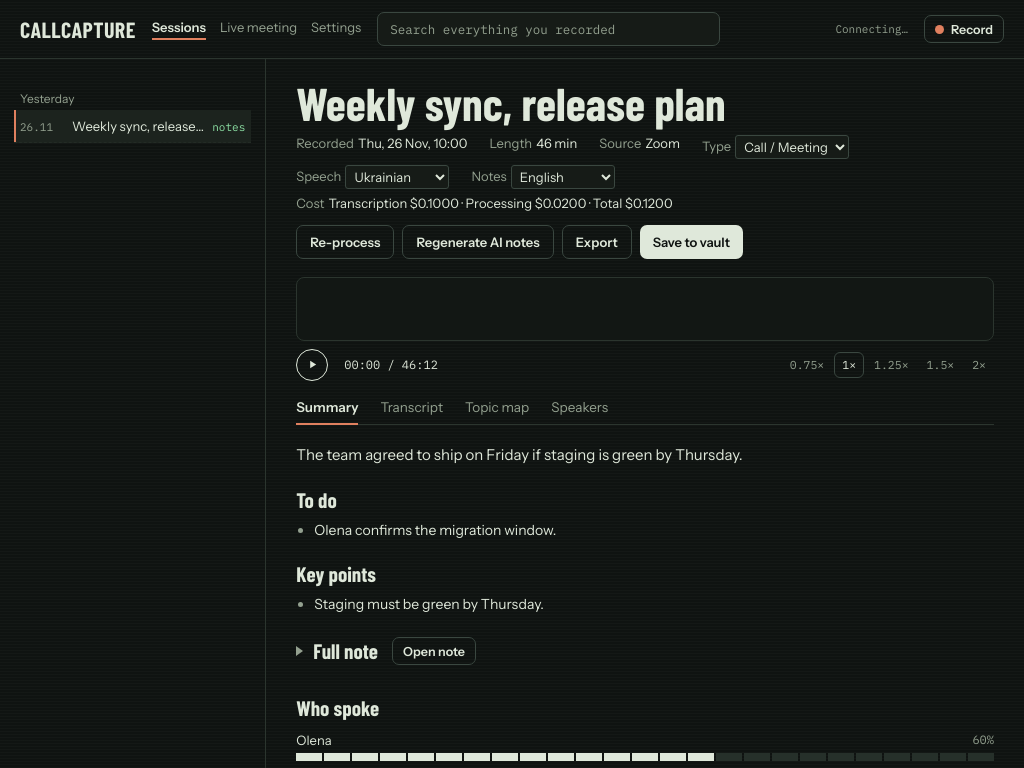
Scenario: SessionDetail: edit, open the note, progress › says so when the note file can't be opened
The width and height of the screenshot is (1024, 768).
What coordinates should you click on to do the following:
click the button "Open note"
I would click on:
 (434, 651)
Its box is [392,637,476,665].
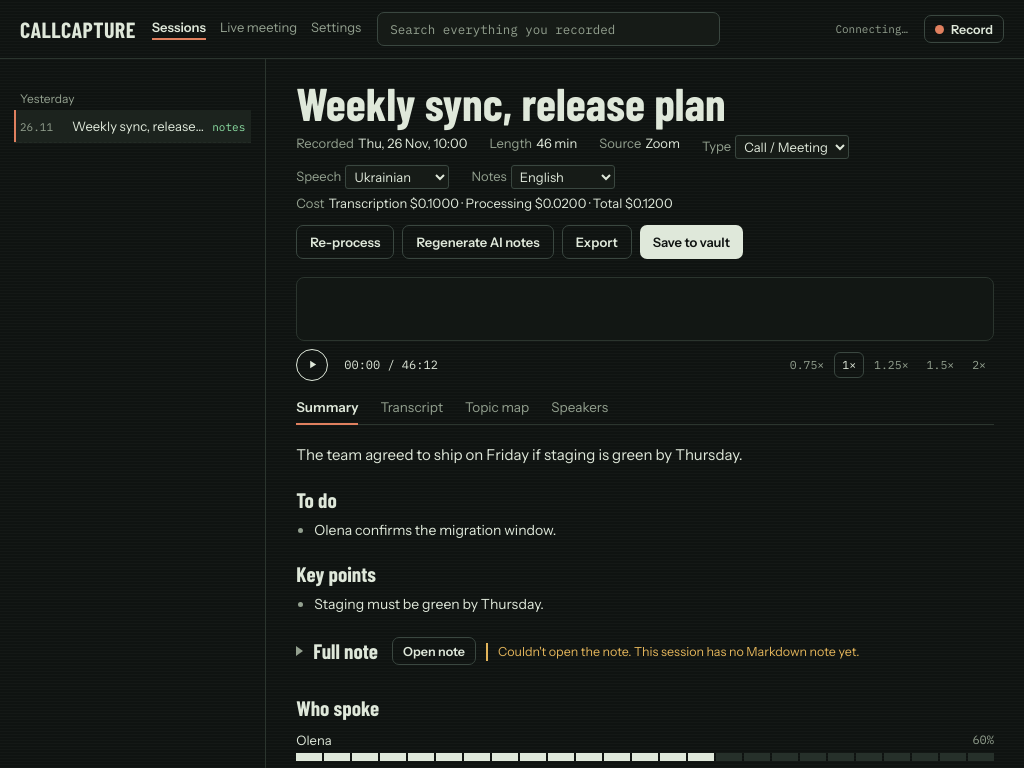
Check: the message "Couldn't open the note. This session has no Markdown note yet." is shown, box [486,643,860,662]
